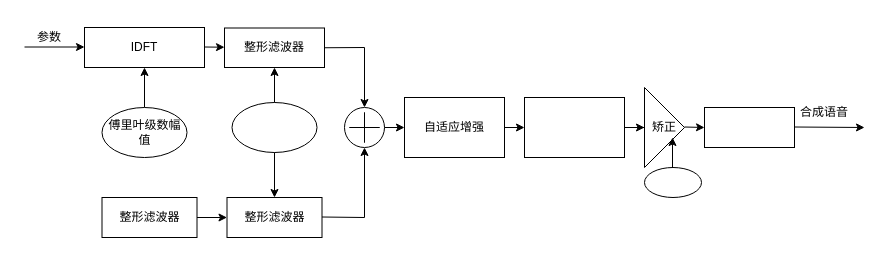
This 890x255 diagram has some shape labels left out. The shapes that lost their labels are listed below. From the top down, each one's centre as x and y in pixels, then its label:
At point 274,127: "子带声音强度".
At point 574,127: "LPC合成滤波器".
At point 749,127: "脉冲整形滤波".
At point 673,182: "增益".
